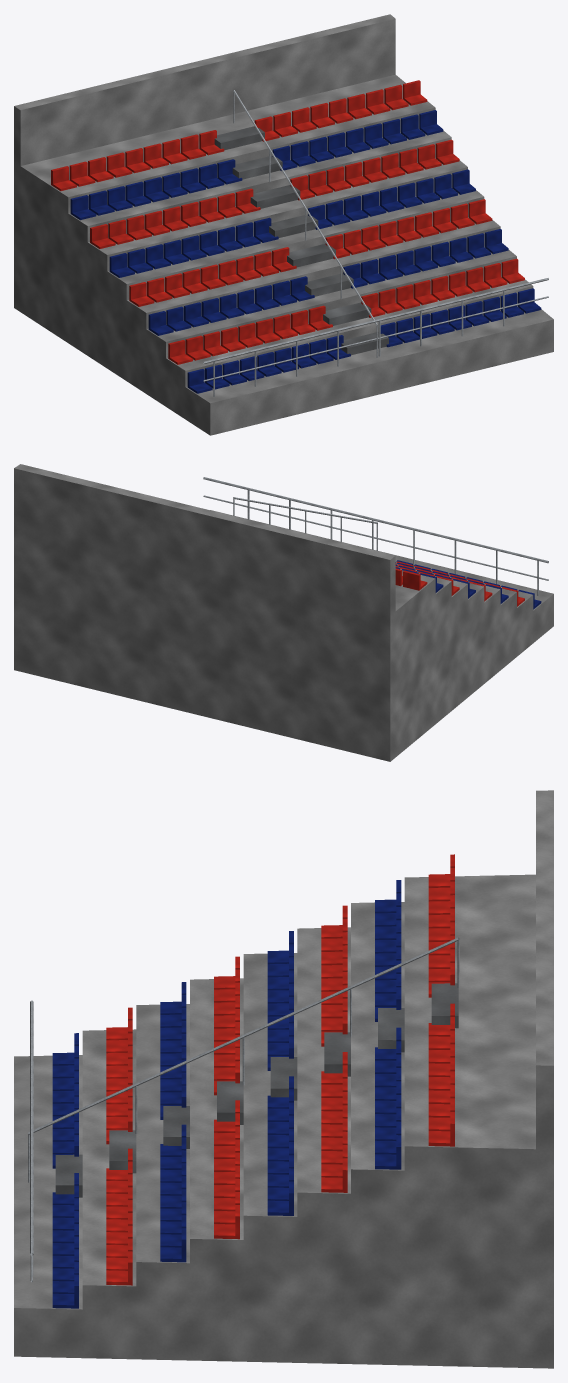
File: bay_10m_curve6.glb
3 renders of one model, top to bottom at view 1: azimuth 30°, elevation 25°; view 2: azimuth 150°, elevation 25°; view 3: azimuth 270°, elevation 25°, orthographic. The views are drawn at different scales.
Parts seen in each view (by area): view 1: bay_10m_curve6; view 2: bay_10m_curve6; view 3: bay_10m_curve6.
Boxes of the visible parts, x1,y1,x2,y2 form: bay_10m_curve6: (14, 14, 553, 435); bay_10m_curve6: (14, 464, 553, 761); bay_10m_curve6: (14, 790, 553, 1368).
Bounding box in the file's own units: 10.92 × 5.6 × 9.05.
5 materials, 5 textured.
